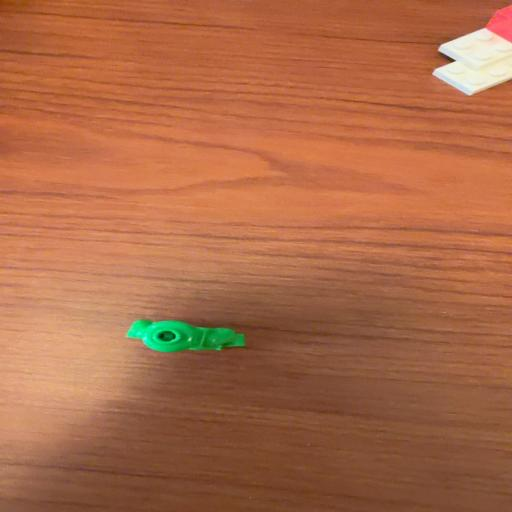UnoQ-minifig-detector: (126, 317, 246, 354)
